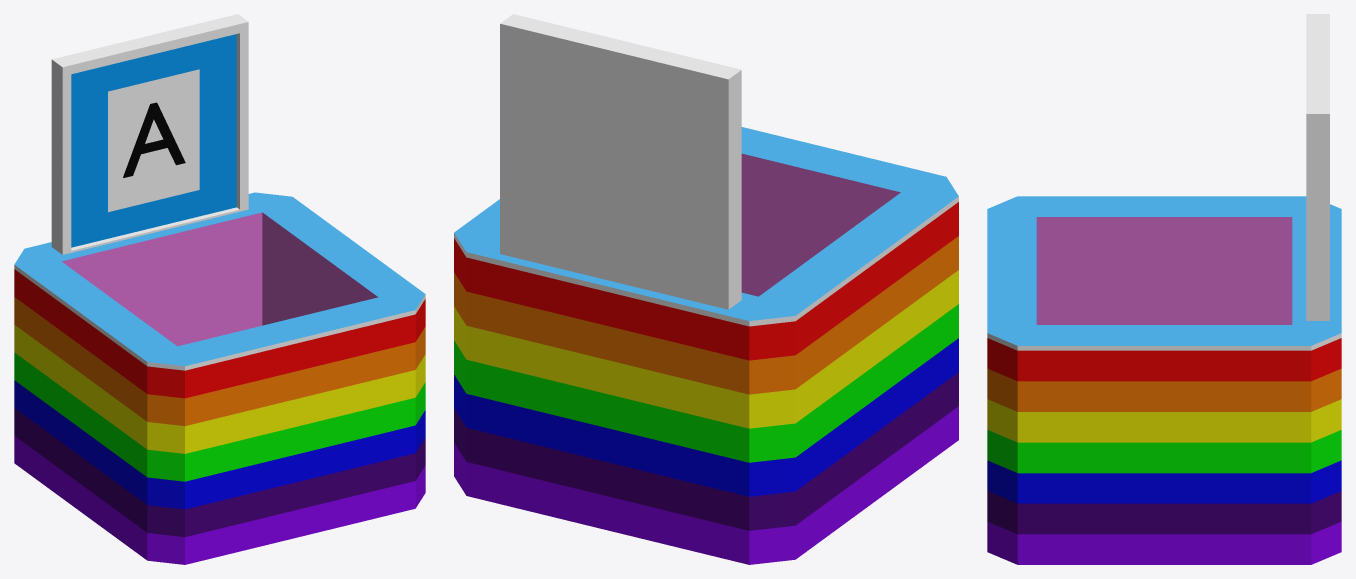
3 views of the same model, side by side, from view 1: azimuth 30°, elevation 25°; view 2: azimuth 150°, elevation 25°; view 3: azimuth 270°, elevation 25° (orthographic). The views are drawn at different scales.
Visible parts, largest first — view 1: Cube.001, Cube, Plane, Text; view 2: Cube.001, Cube; view 3: Cube.001, Cube.
Boxes of the visible parts, x1,y1,x2,y2 form: Cube.001: (14, 192, 425, 564); Cube: (51, 14, 248, 254); Plane: (108, 69, 199, 212); Text: (123, 102, 185, 177); Cube.001: (454, 127, 958, 564); Cube: (500, 14, 741, 309); Cube.001: (987, 196, 1341, 564); Cube: (1306, 14, 1329, 320).
Bounding box in the file's own units: 383 × 508 × 383.
